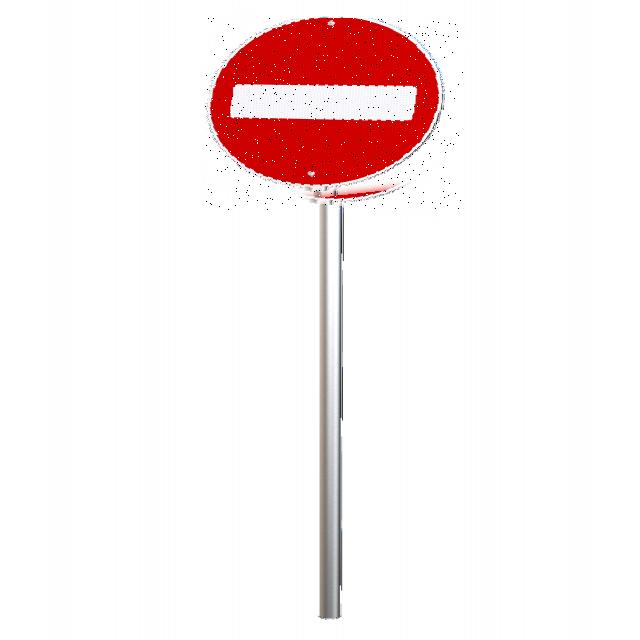no entry: (205, 18, 463, 211)
